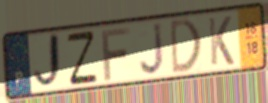D: (169, 16, 203, 77)
F: (99, 25, 132, 82)
J: (32, 30, 65, 93), (138, 20, 166, 78)
K: (206, 15, 236, 68)
Z: (65, 28, 100, 88)
